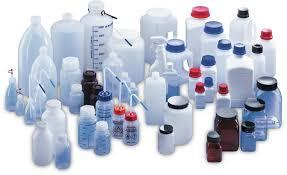Container for household chemicals: (4, 2, 283, 174)
